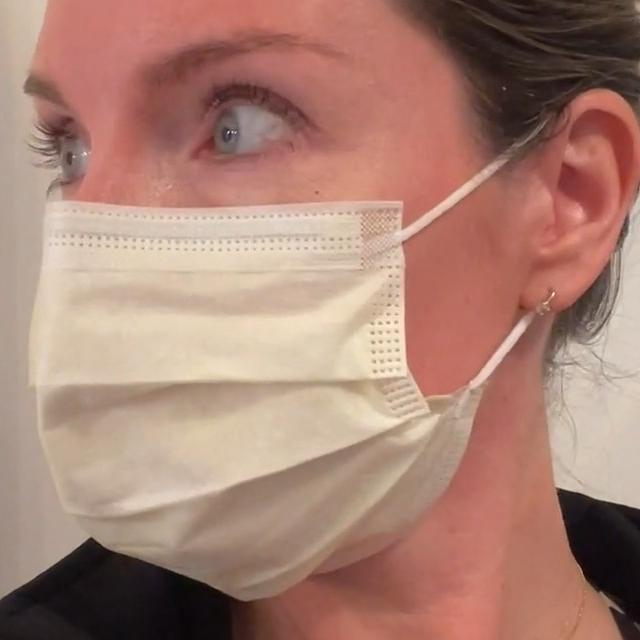Mask: (18, 93, 560, 602)
Person: (0, 0, 640, 640)
